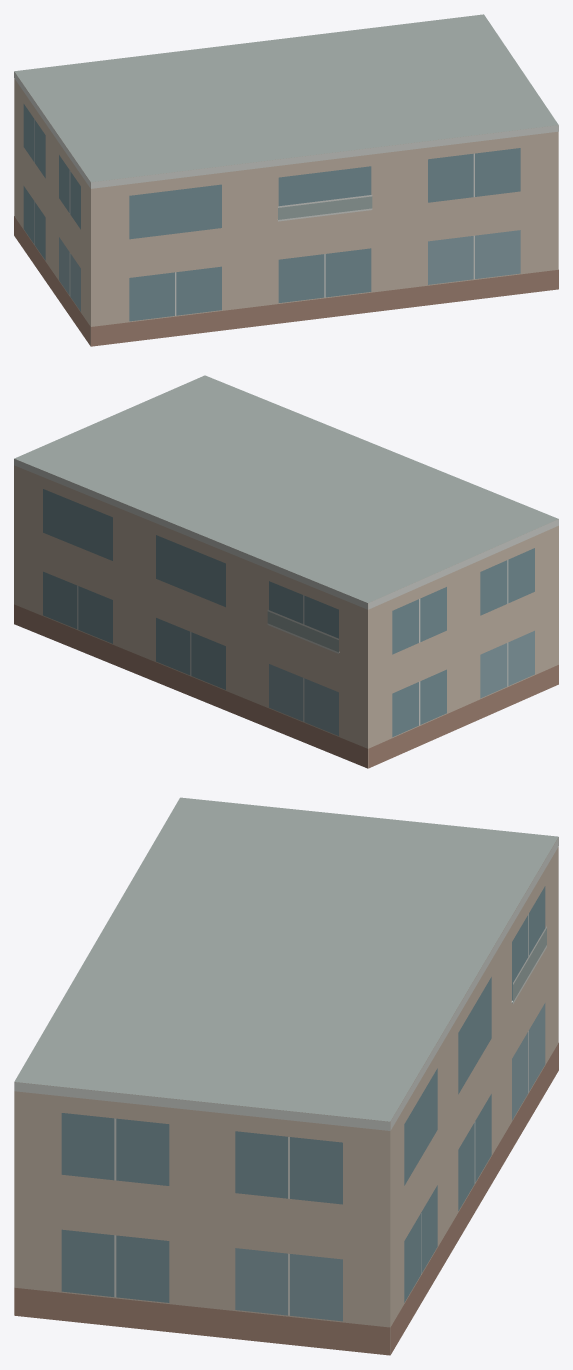
Rendered from survey-upis-32609331.glb.
3 views of the same model, one above another, from view 1: azimuth 30°, elevation 25°; view 2: azimuth 150°, elevation 25°; view 3: azimuth 270°, elevation 25° (orthographic). The views are drawn at different scales.
Parts seen in each view (by area): view 1: survey-upis-32609331.tmp; view 2: survey-upis-32609331.tmp; view 3: survey-upis-32609331.tmp.
Part boxes in pixels (x1,y1,x2,y2): survey-upis-32609331.tmp: [14, 14, 558, 346]; survey-upis-32609331.tmp: [14, 375, 558, 768]; survey-upis-32609331.tmp: [14, 797, 558, 1355].
Size of the model in its own units: 18.16 by 6.1 by 12.89.
